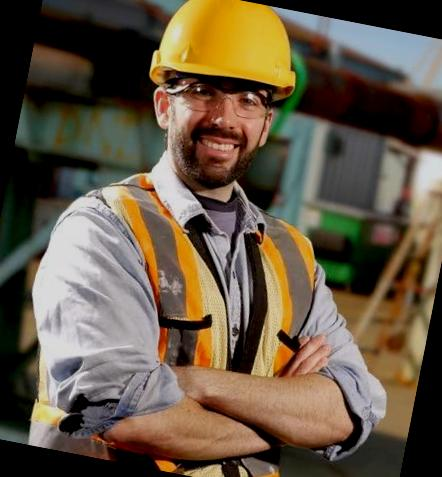helmet: (137, 0, 316, 112)
person: (18, 0, 379, 477)
